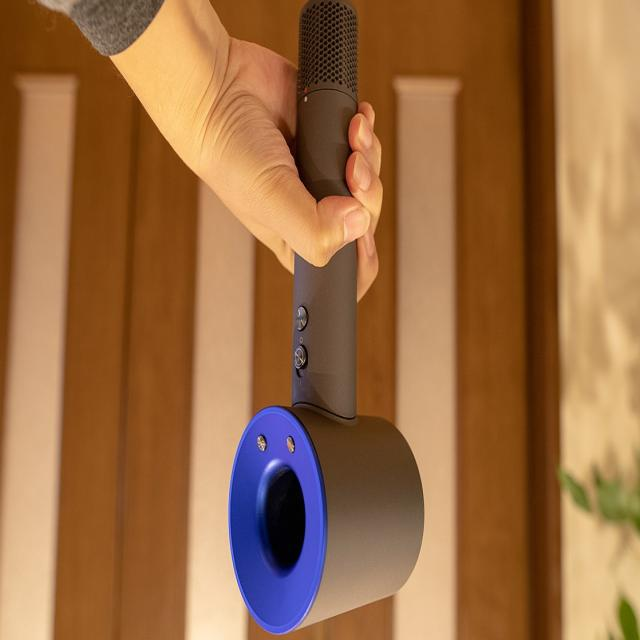dryer: (227, 0, 425, 635)
